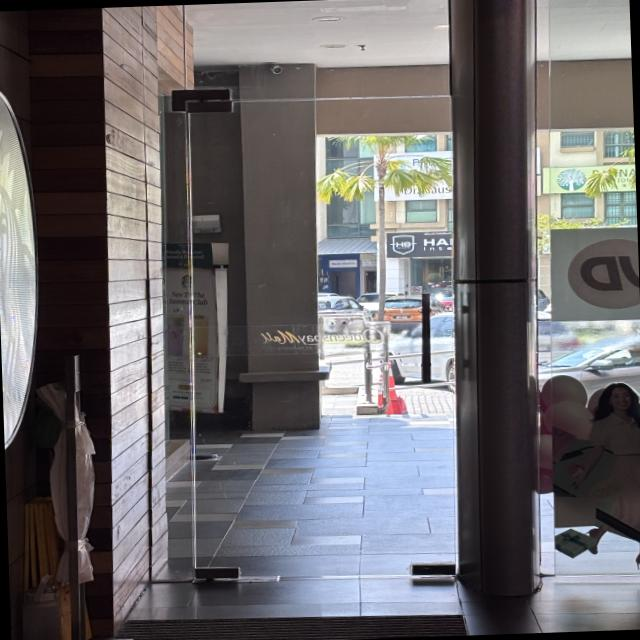door: (174, 82, 461, 587)
